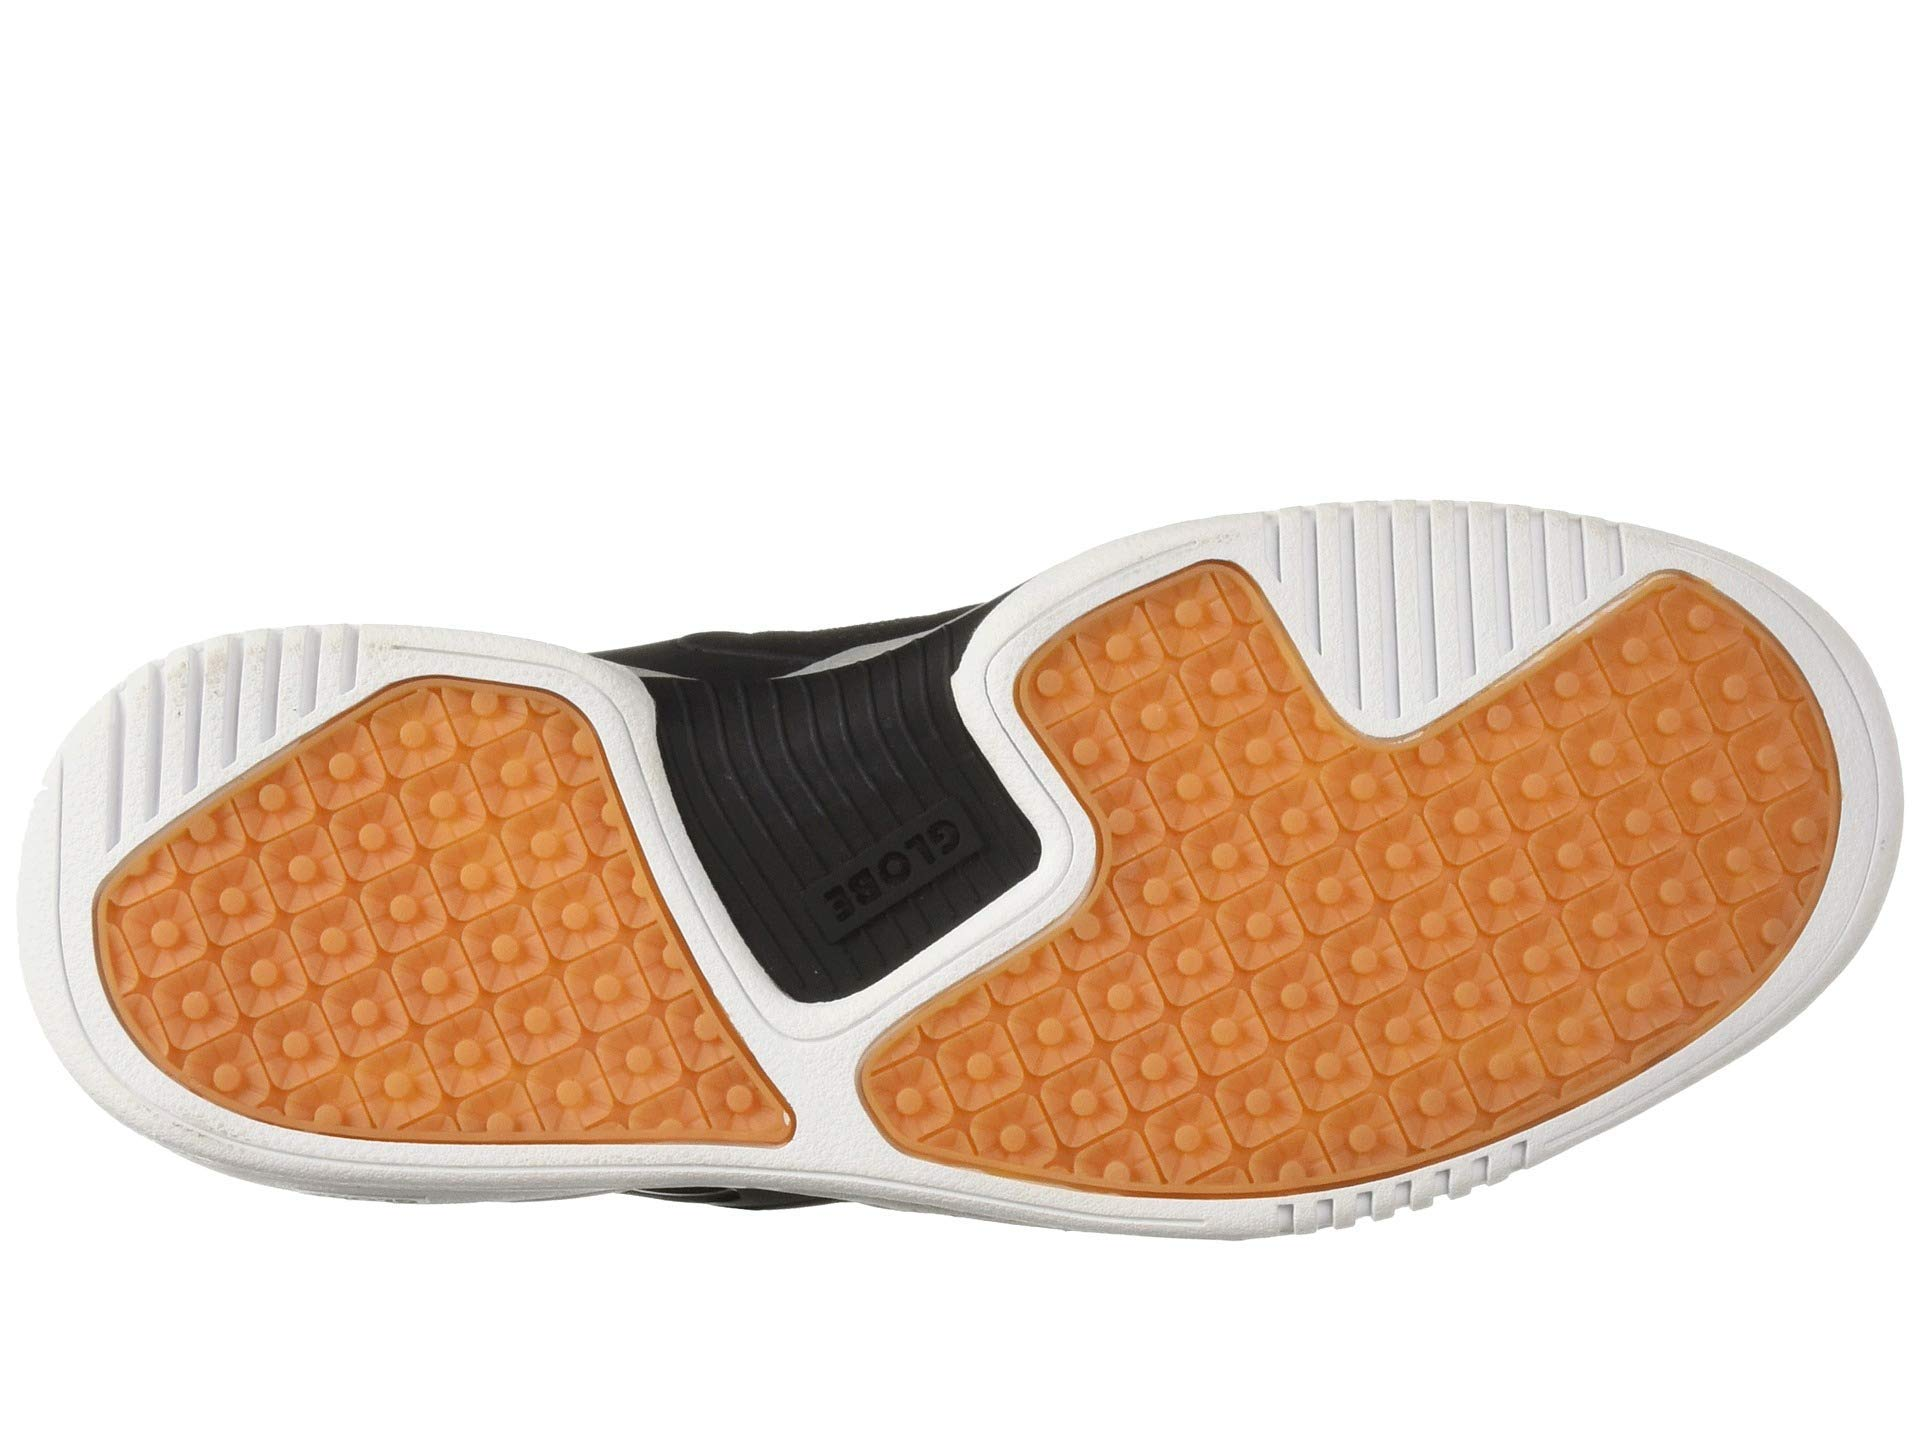circle: (1075, 709, 1677, 1088), (251, 781, 624, 1116), (776, 767, 999, 954)
line: (776, 767, 999, 954), (1288, 519, 1554, 647), (68, 678, 212, 808), (234, 638, 363, 703)
quad: (1075, 709, 1677, 1088), (251, 781, 624, 1116), (776, 767, 999, 954)
text: (776, 767, 999, 954)
